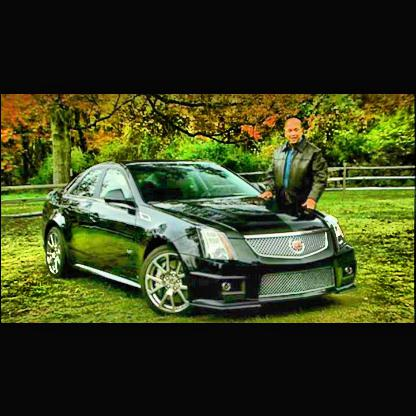Cadillac CTS-V Sedan 2012: (41, 162, 358, 315)
